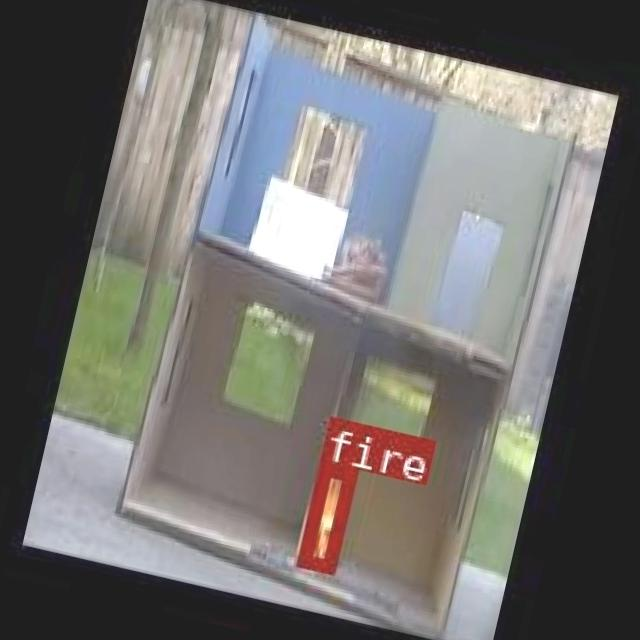fire: (296, 457, 356, 570)
